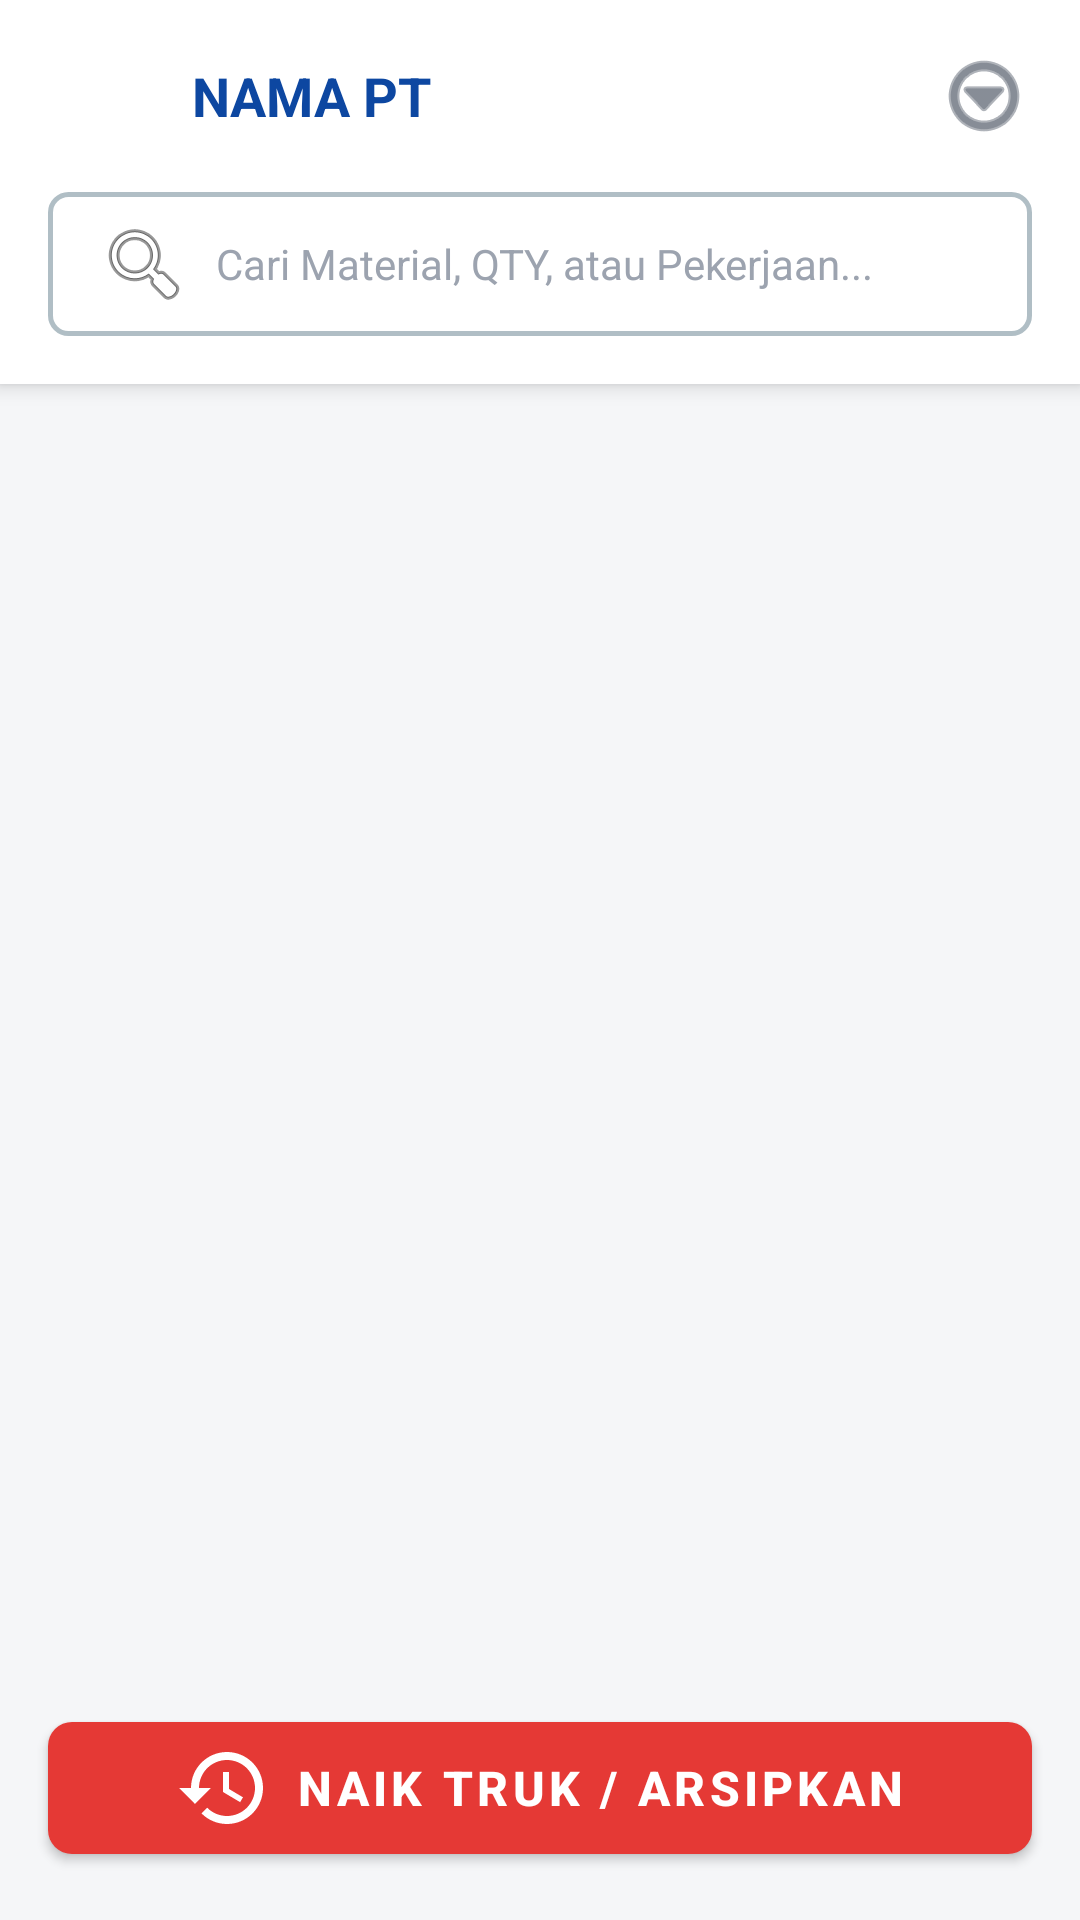

Icon bounding boxes for this 1080 × 1920 phone screenshot, format detection(x1, y1, x2, y2):
Opsi: detection(948, 61, 1020, 132)
